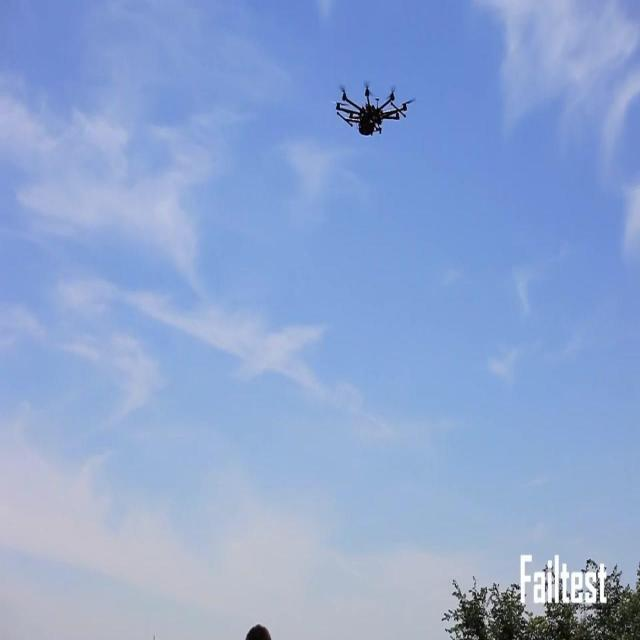UAV: (332, 81, 416, 136)
